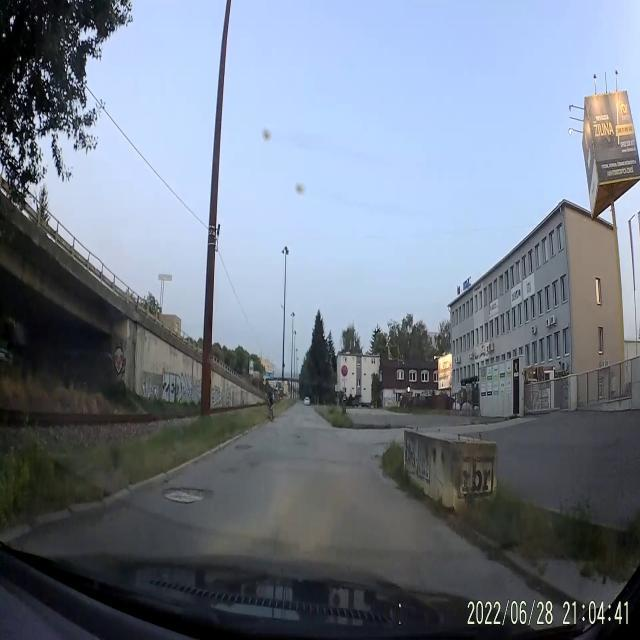Pothole: (160, 478, 215, 514), (232, 436, 252, 452)
